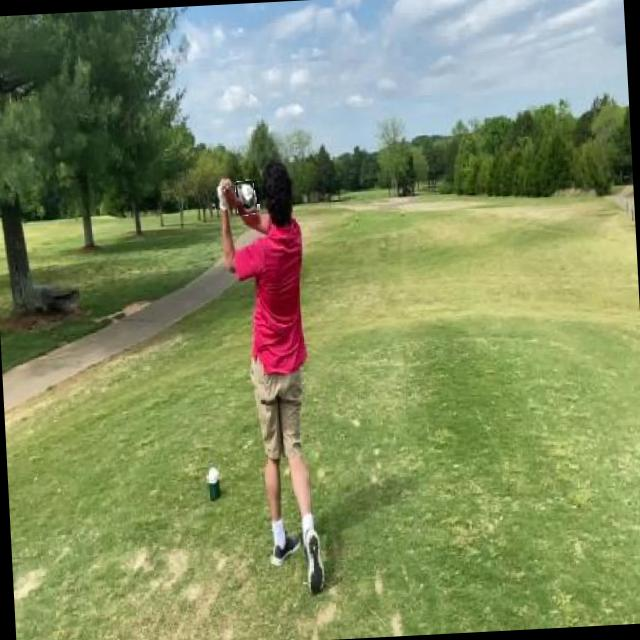club head: (236, 180, 260, 216)
